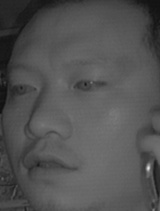eye: (71, 73, 109, 95), (9, 79, 39, 99)
mouth: (25, 146, 78, 183)
